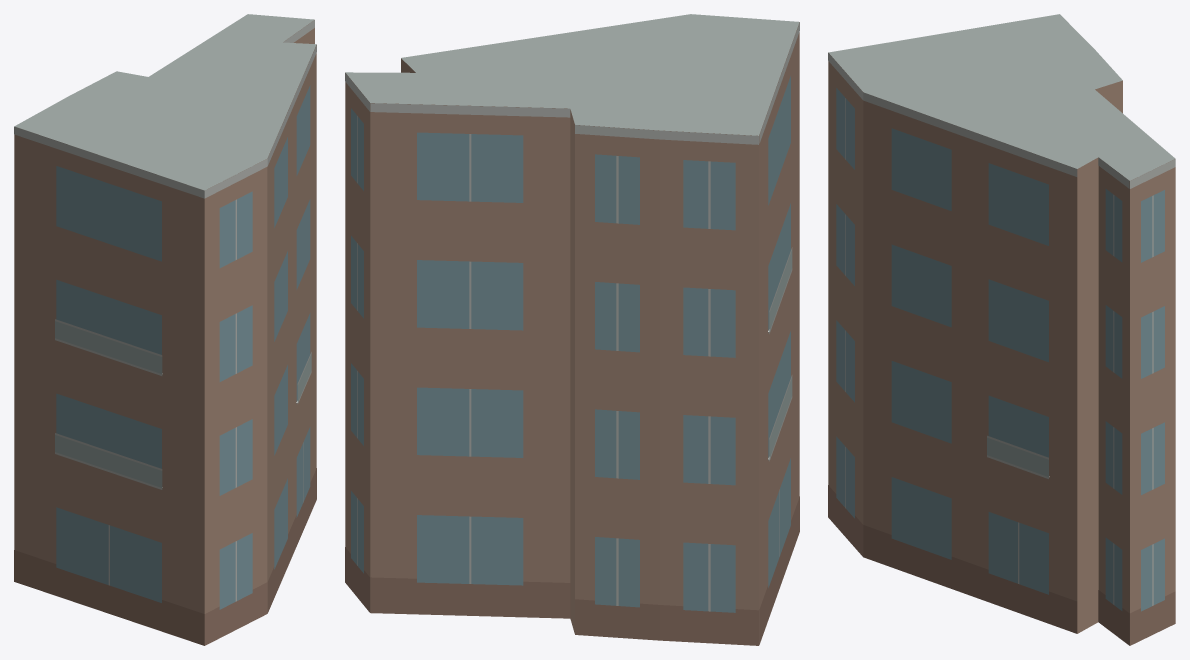
The model's file is survey-upis-32460520.glb.
The picture shows the model from 3 angles, left to right: view 1: azimuth 30°, elevation 25°; view 2: azimuth 150°, elevation 25°; view 3: azimuth 270°, elevation 25°; orthographic projection. The views are drawn at different scales.
Parts seen in each view (by area): view 1: survey-upis-32460520.tmp; view 2: survey-upis-32460520.tmp; view 3: survey-upis-32460520.tmp.
Boxes of the visible parts, left/top/right/bottom form: survey-upis-32460520.tmp: left=14, top=14, right=316, bottom=645; survey-upis-32460520.tmp: left=345, top=14, right=799, bottom=645; survey-upis-32460520.tmp: left=828, top=14, right=1175, bottom=645.
Bounding box in the file's own units: 10.6 × 13.75 × 9.32.
